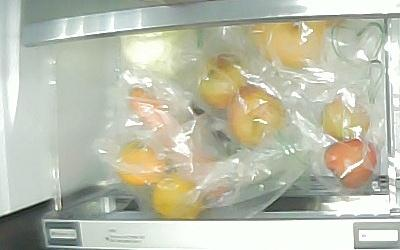cabbage_vinyl: (121, 30, 192, 78)
carrot_vinyl: (126, 89, 232, 194)
pear_vinyl: (244, 20, 330, 70)
prune_vinyl: (226, 86, 285, 146), (198, 54, 251, 109), (319, 93, 373, 144)
tangerine_vinyl: (150, 171, 202, 222), (116, 138, 167, 188)
tomato_vinyl: (324, 139, 378, 191)
